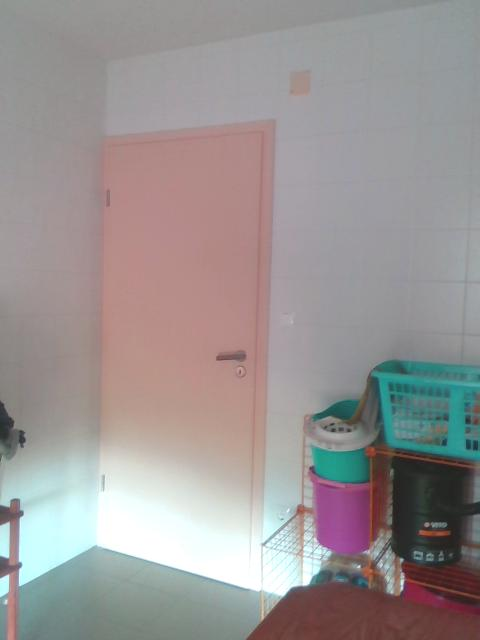closed_door: (92, 116, 273, 600)
